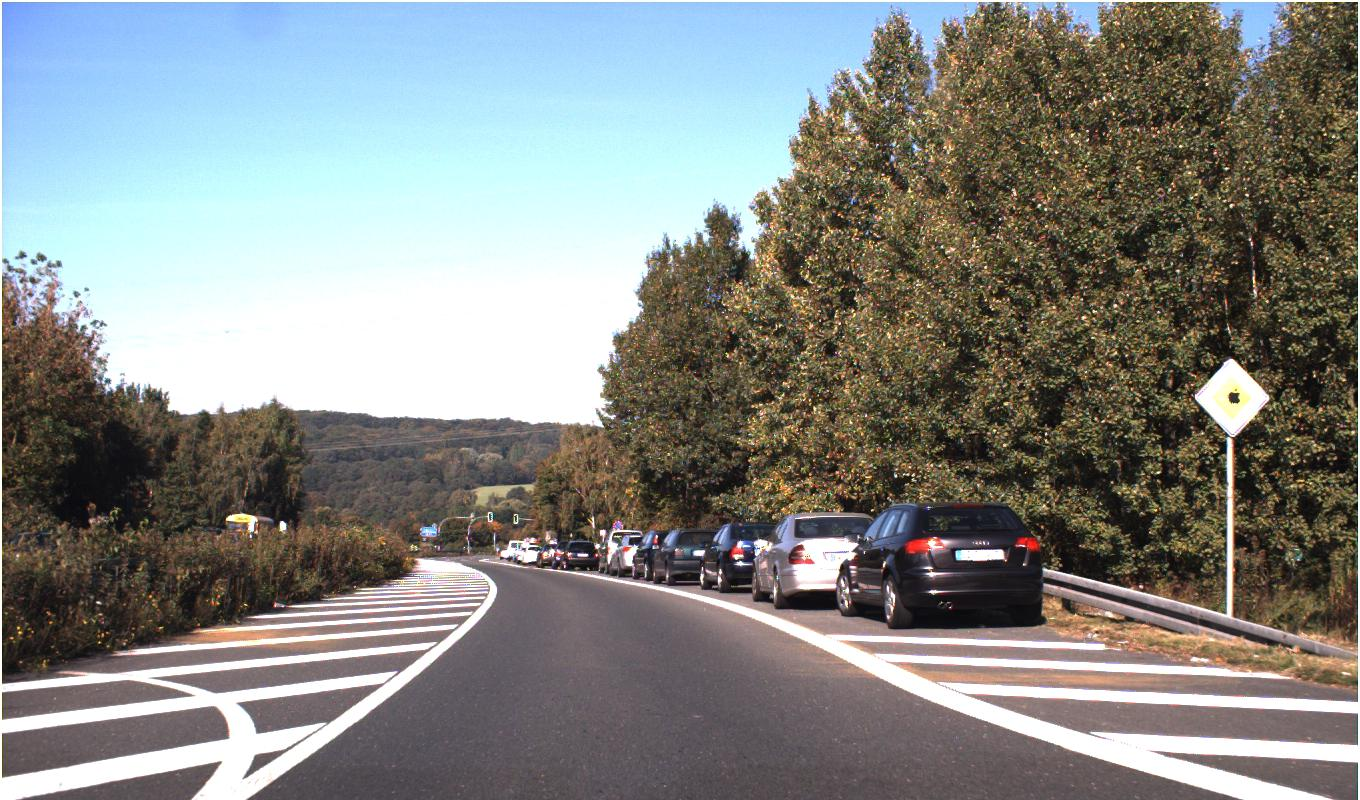sign: (1193, 358, 1269, 436)
